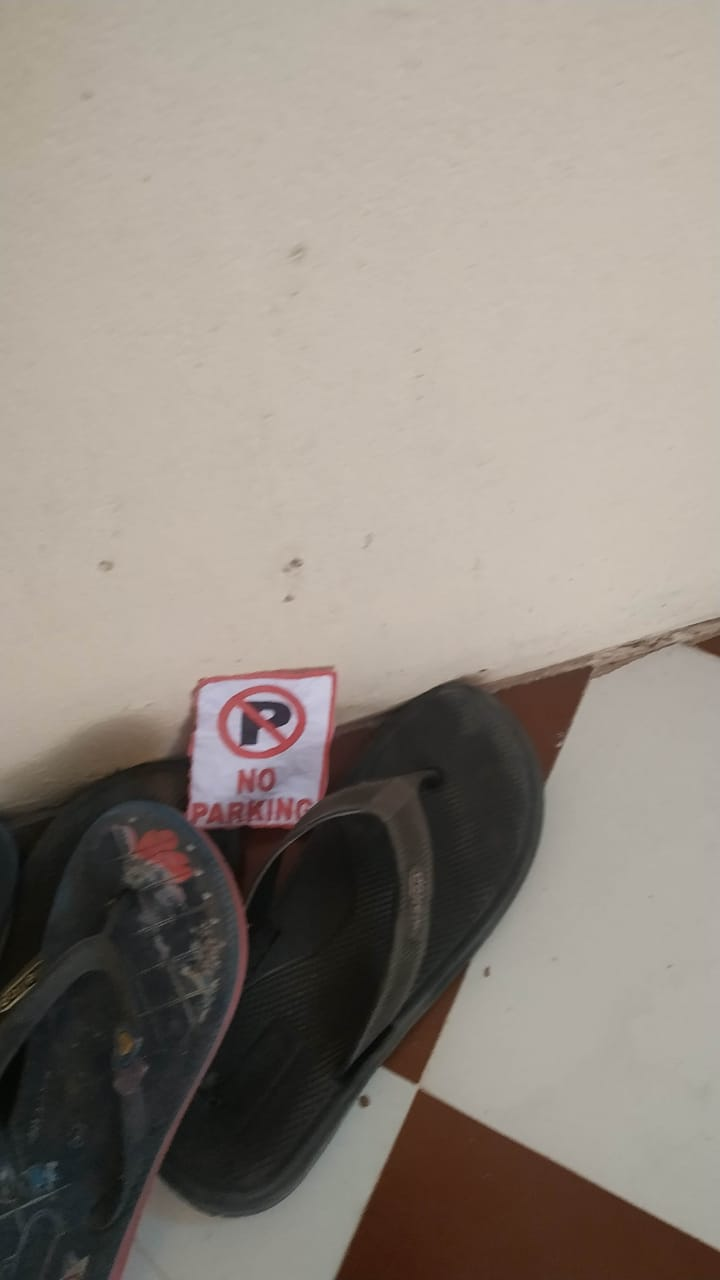NO PARKING: (170, 671, 352, 849)
